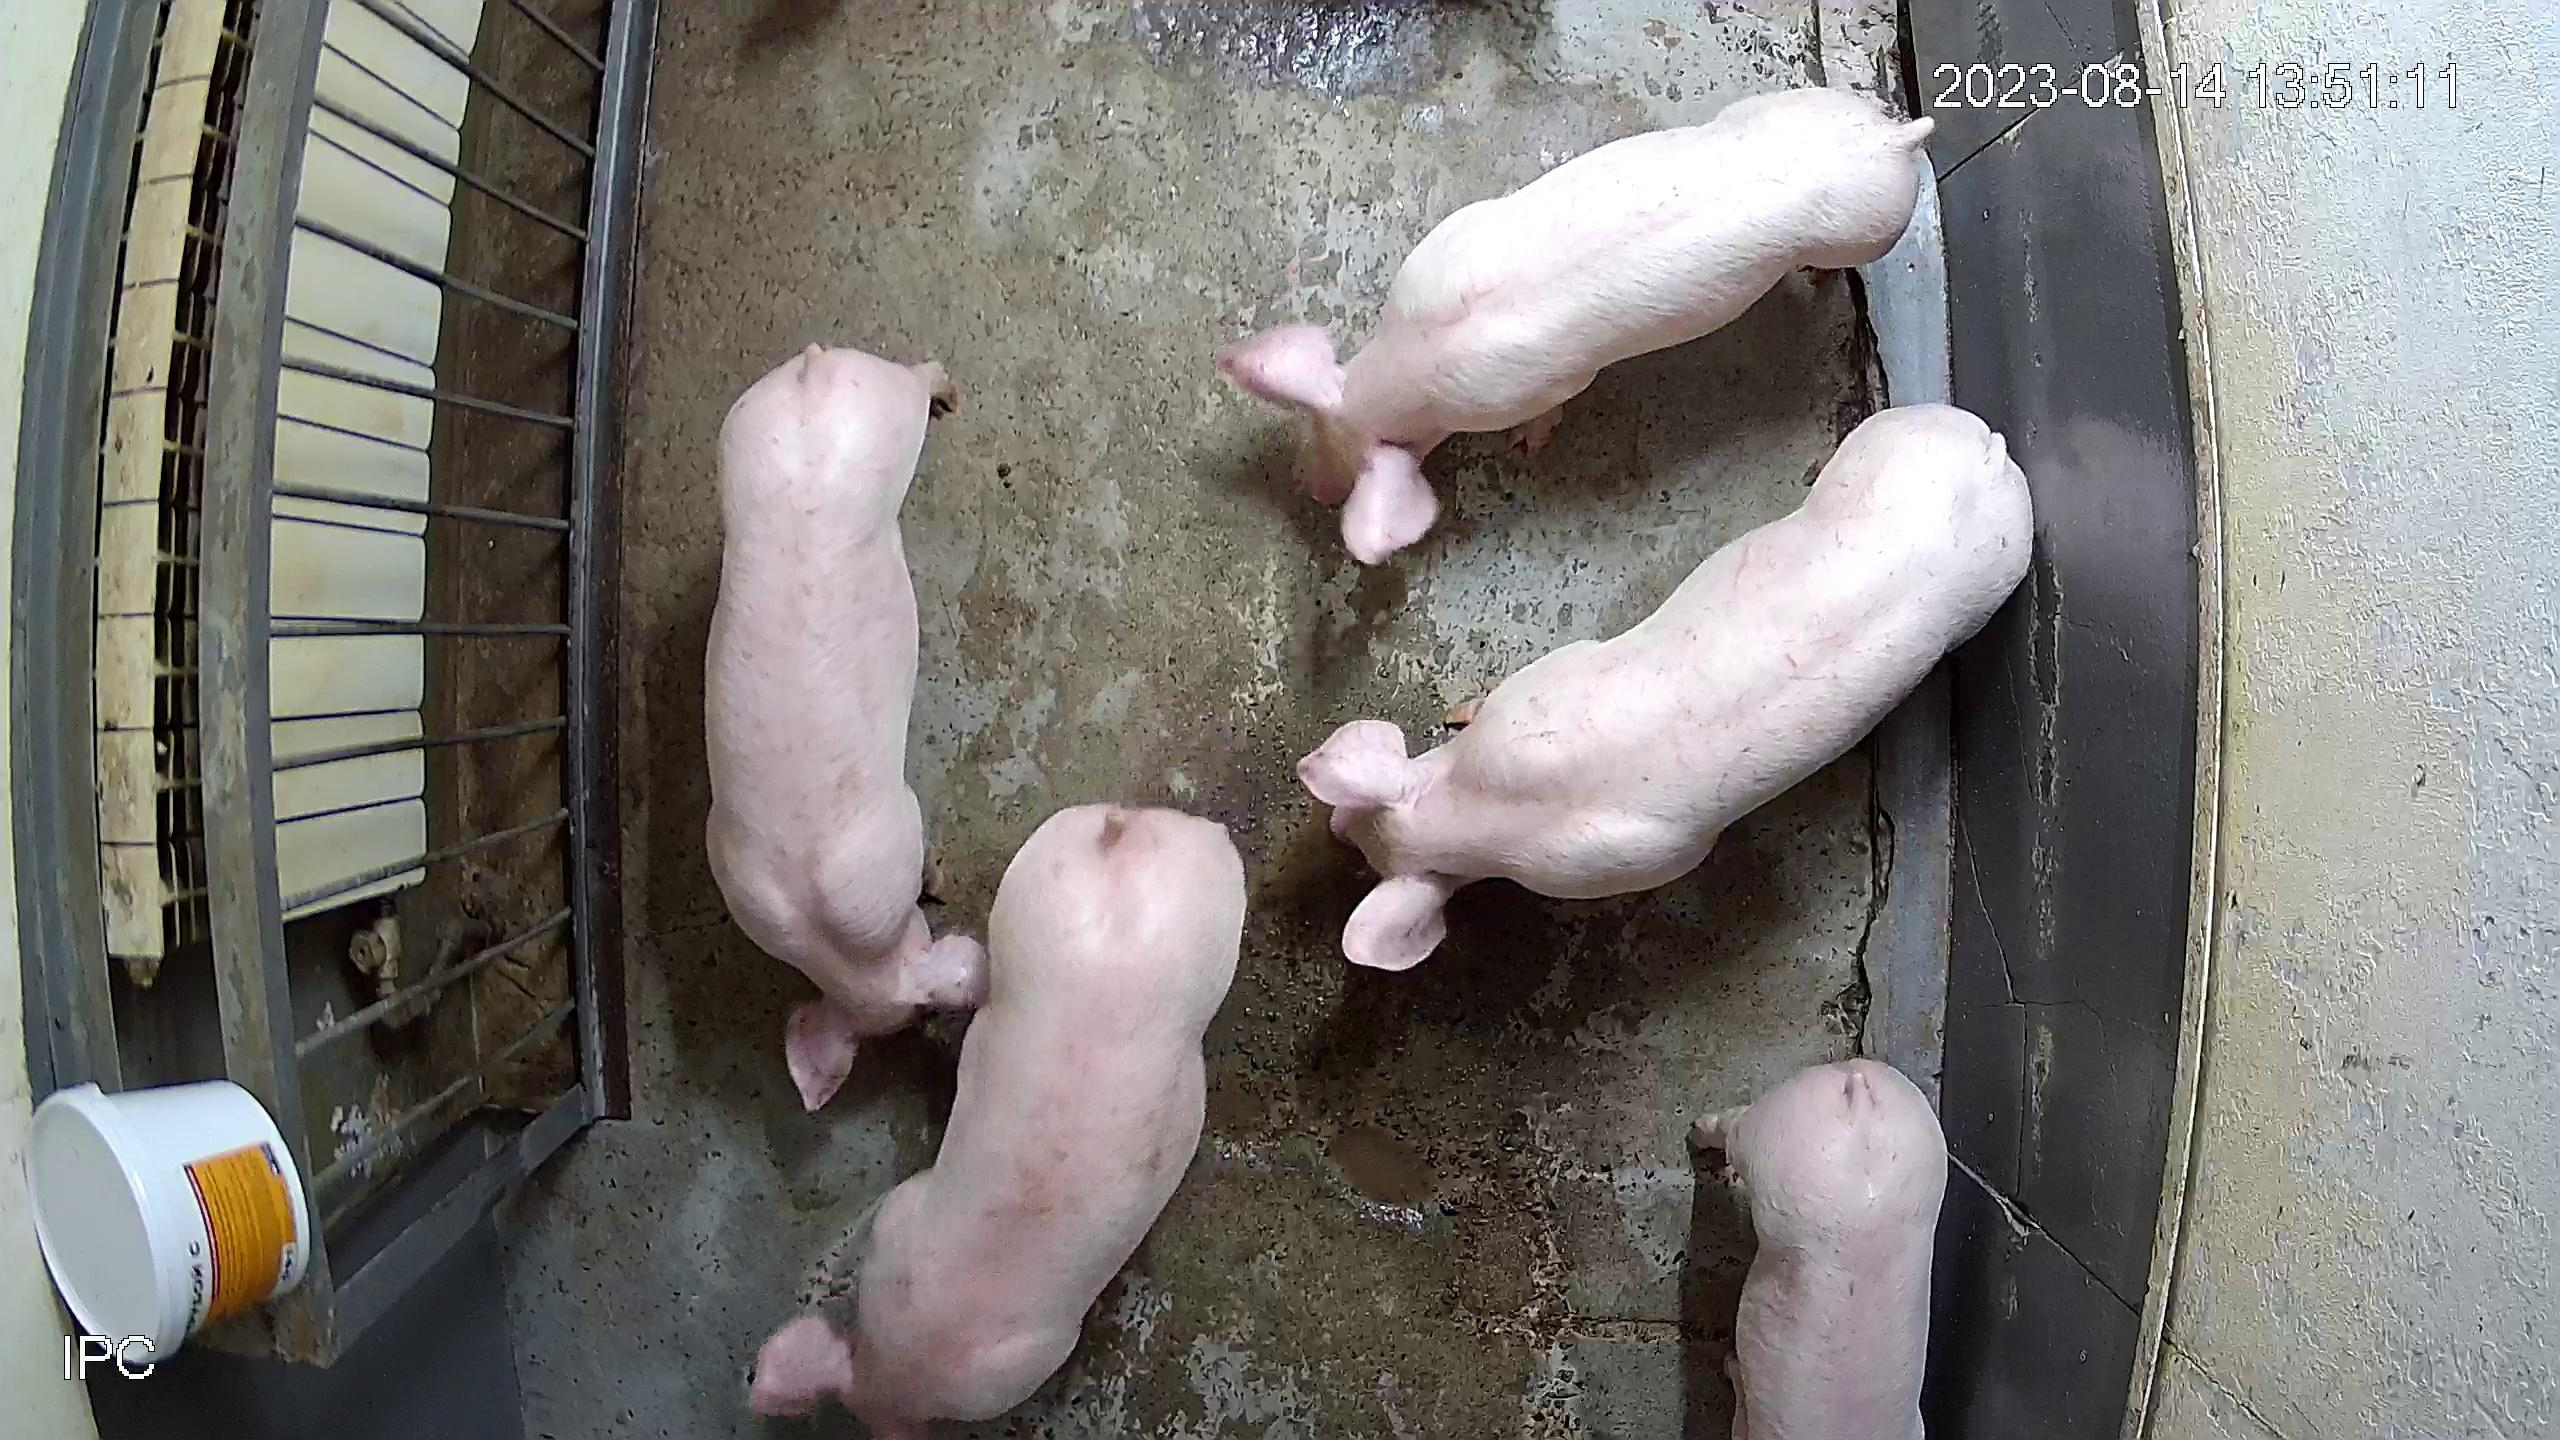Pig: (1299, 403, 2036, 969), (1218, 84, 1936, 563), (747, 804, 1245, 1438), (703, 341, 986, 1109), (1698, 1058, 1952, 1440)
